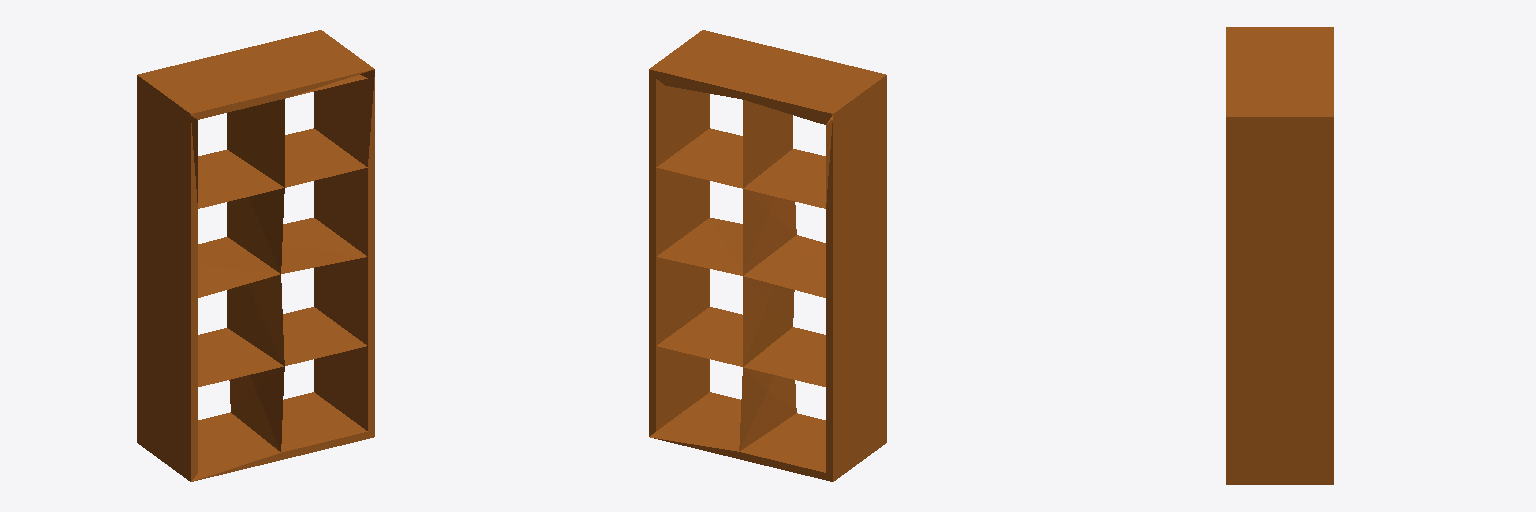
The model's file is bookshelf.obj.
The picture shows the model from 3 angles: view 1: azimuth 30°, elevation 25°; view 2: azimuth 150°, elevation 25°; view 3: azimuth 270°, elevation 25°; orthographic projection.
Parts seen in each view (by area): view 1: Mesh1 Model; view 2: Mesh1 Model; view 3: Mesh1 Model.
Boxes of the visible parts, box(x1,y1,x2,y2) form: Mesh1 Model: box(137, 30, 374, 481); Mesh1 Model: box(649, 30, 886, 481); Mesh1 Model: box(1226, 27, 1333, 484).
Bounding box in the file's own units: 0.1146 × 0.2188 × 0.058.